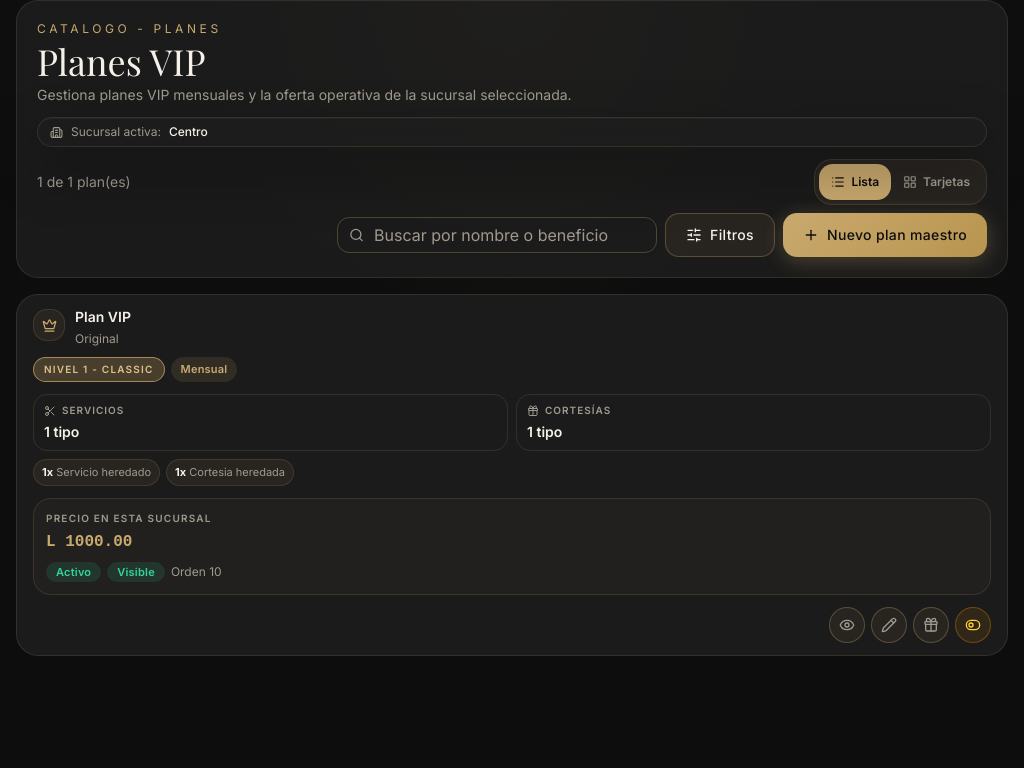
Test: edicion segura de beneficios globales › no permite aumentar una cortesia existente mientras permanece inactiva
Expected: the heading "Plan VIP" is shown, [75, 307, 131, 327]
Click the button named "Editar maestro".
click(889, 625)  # box [871, 607, 907, 643]
(page scrolled)
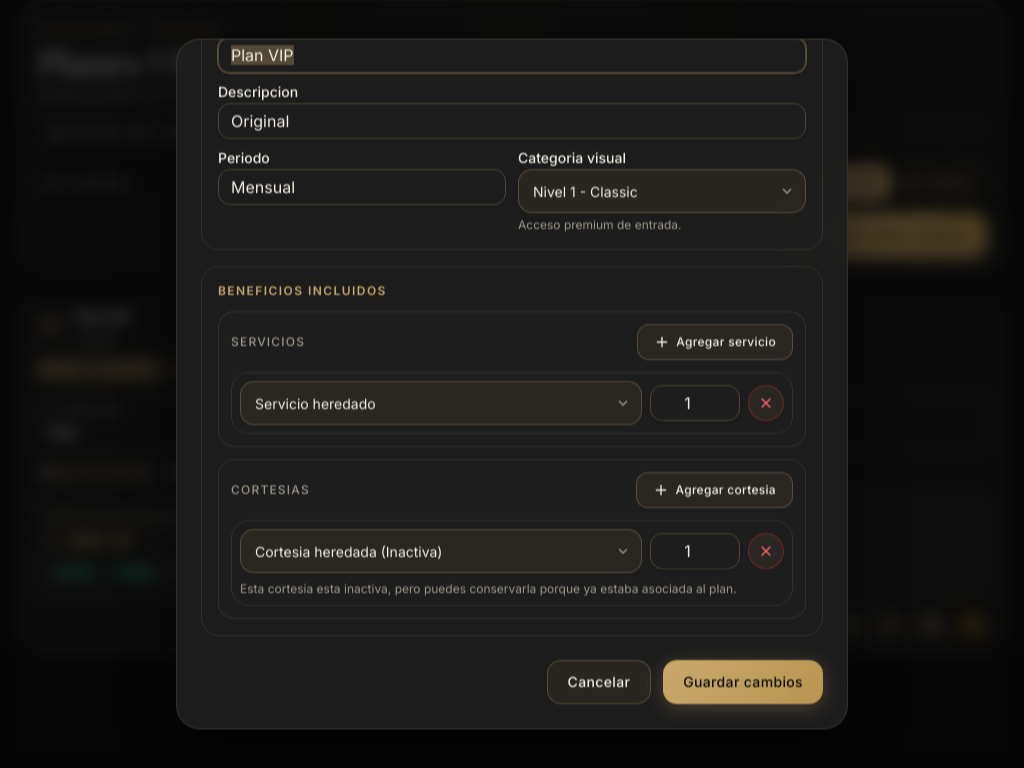
Type "2" into the 2nd number field.
click(695, 551); type("2")  # box [650, 533, 740, 569]
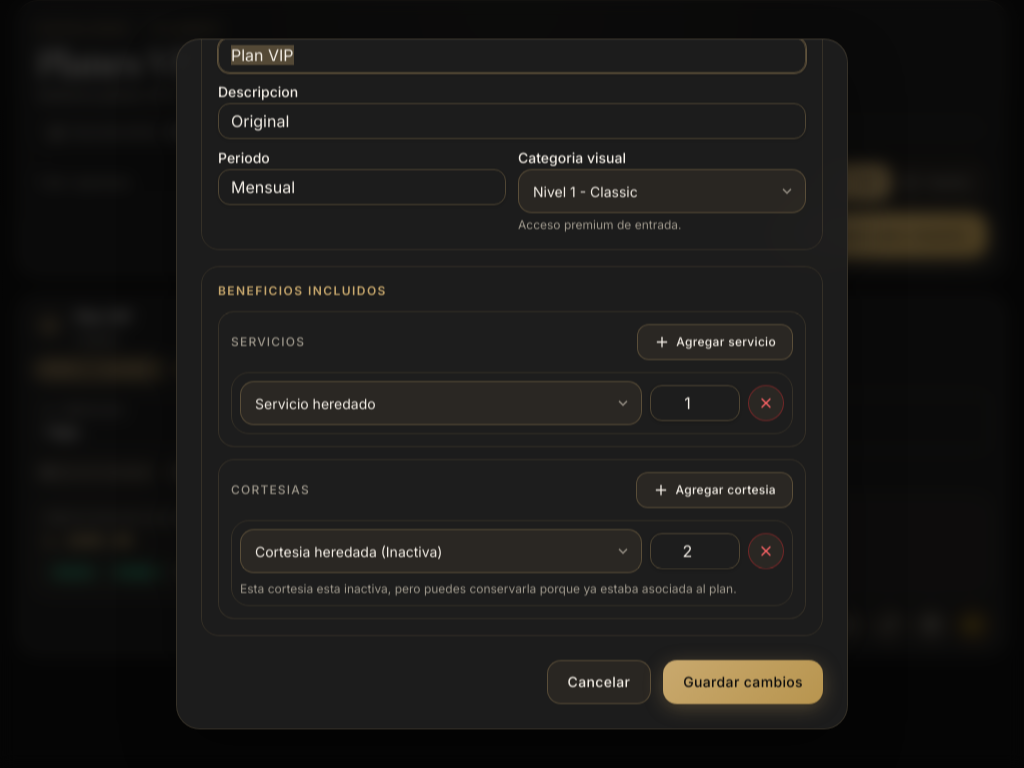
Click the button "Guardar cambios".
click(743, 682)  # box [663, 660, 823, 704]
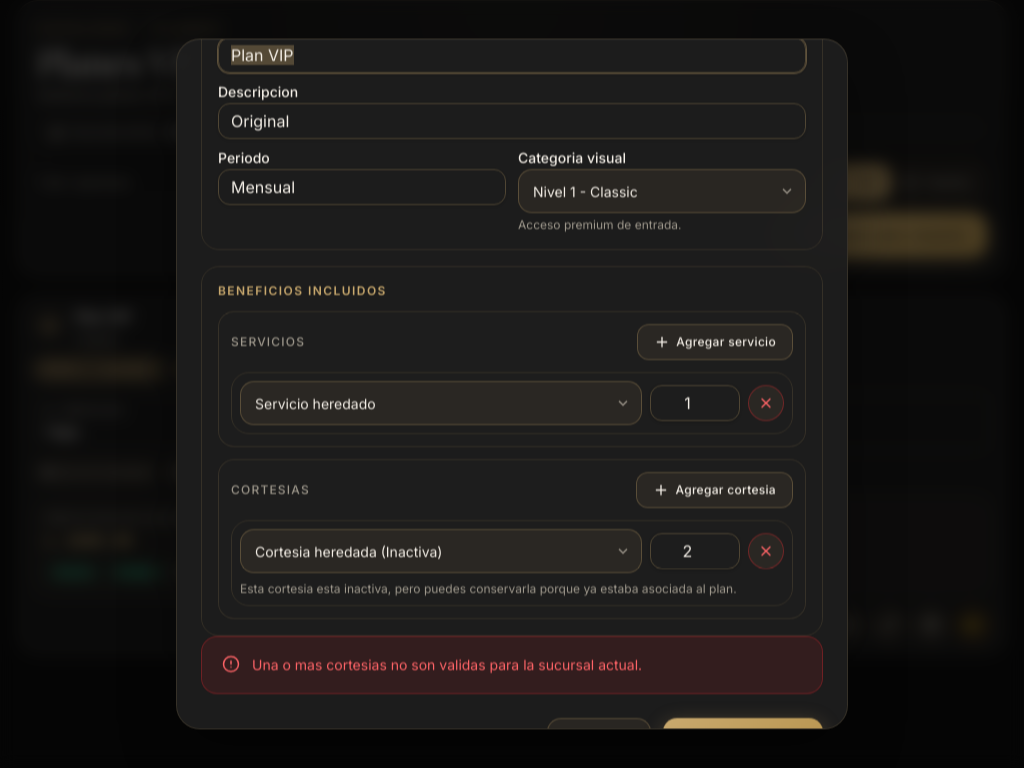
Result: the message reads "Una o mas cortesias no son validas para la sucursal actual." at [252, 656, 642, 673]
